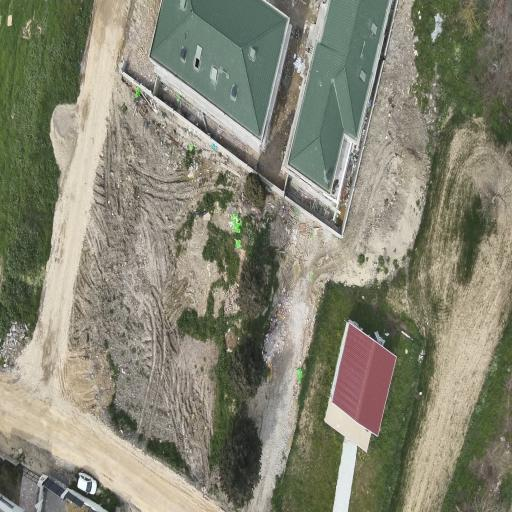car: (78, 473, 97, 494)
